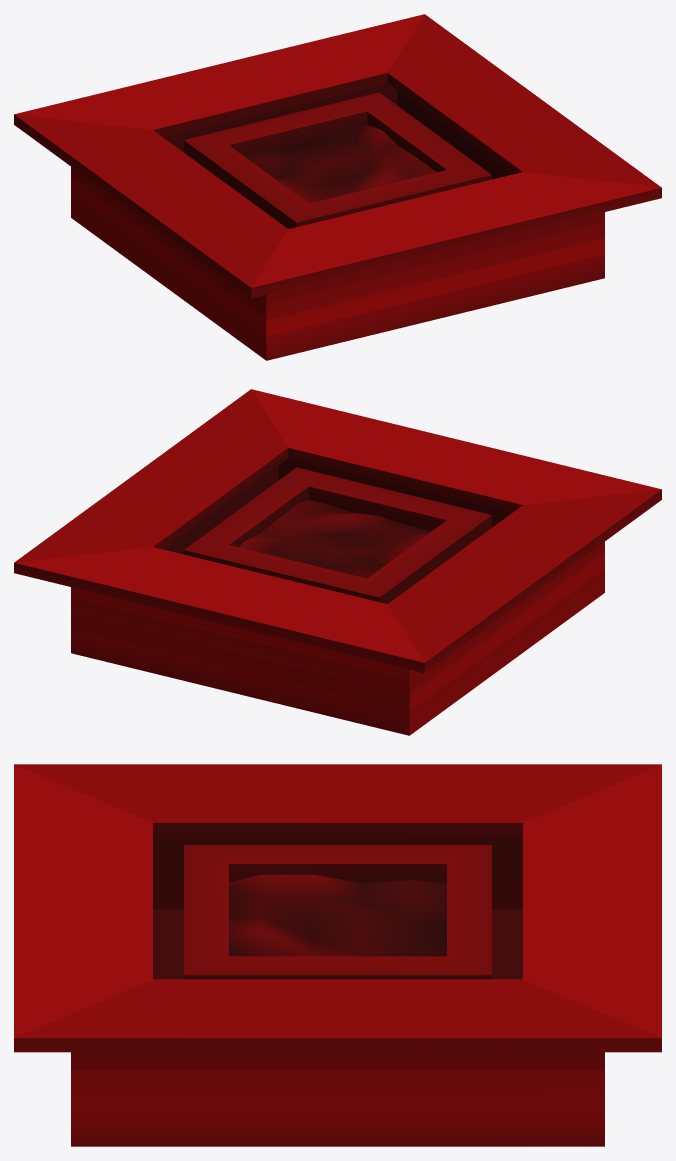
File: WoodenTreeBed.glb
3 renders of one model, top to bottom at view 1: azimuth 30°, elevation 25°; view 2: azimuth 150°, elevation 25°; view 3: azimuth 270°, elevation 25°, orthographic. The views are drawn at different scales.
Visible parts, largest first — view 1: WoodenTreeBed; view 2: WoodenTreeBed; view 3: WoodenTreeBed.
Part boxes in pixels (x1=…): WoodenTreeBed: x1=14, y1=14, x2=661, y2=360; WoodenTreeBed: x1=14, y1=389, x2=661, y2=735; WoodenTreeBed: x1=14, y1=764, x2=661, y2=1146.
Bounding box in the file's own units: 18.33 × 4.14 × 18.33.
